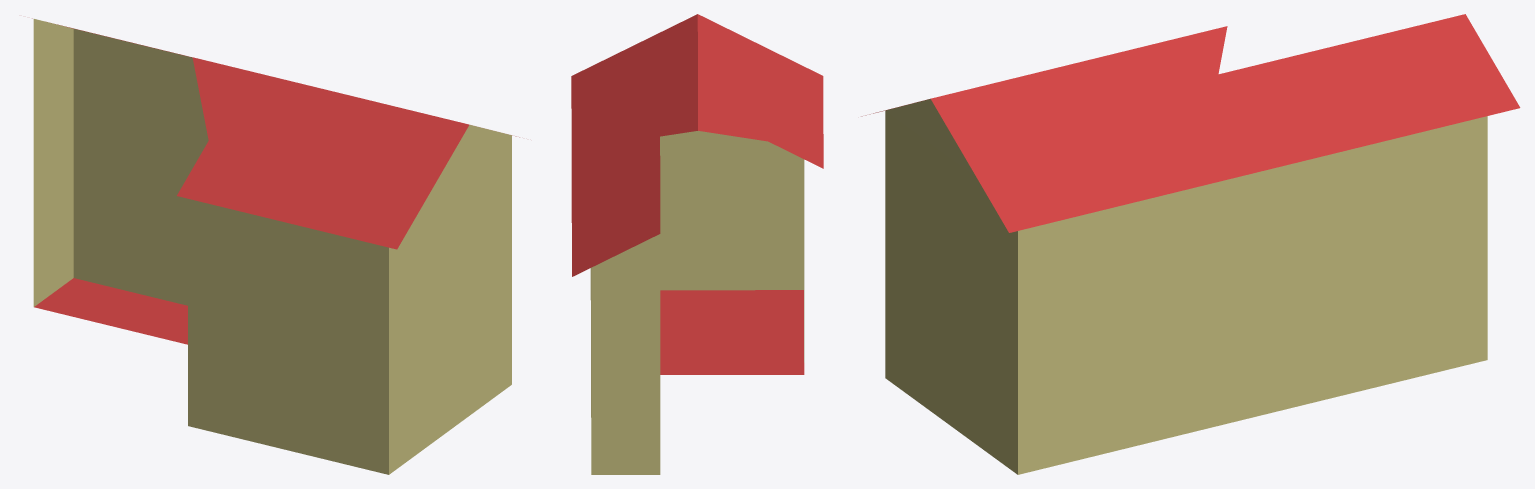
3 renders of one model, left to right at view 1: azimuth 30°, elevation 25°; view 2: azimuth 150°, elevation 25°; view 3: azimuth 270°, elevation 25°, orthographic. The views are drawn at different scales.
Bounding box in the file's own units: 8.48 × 13.91 × 7.64.
